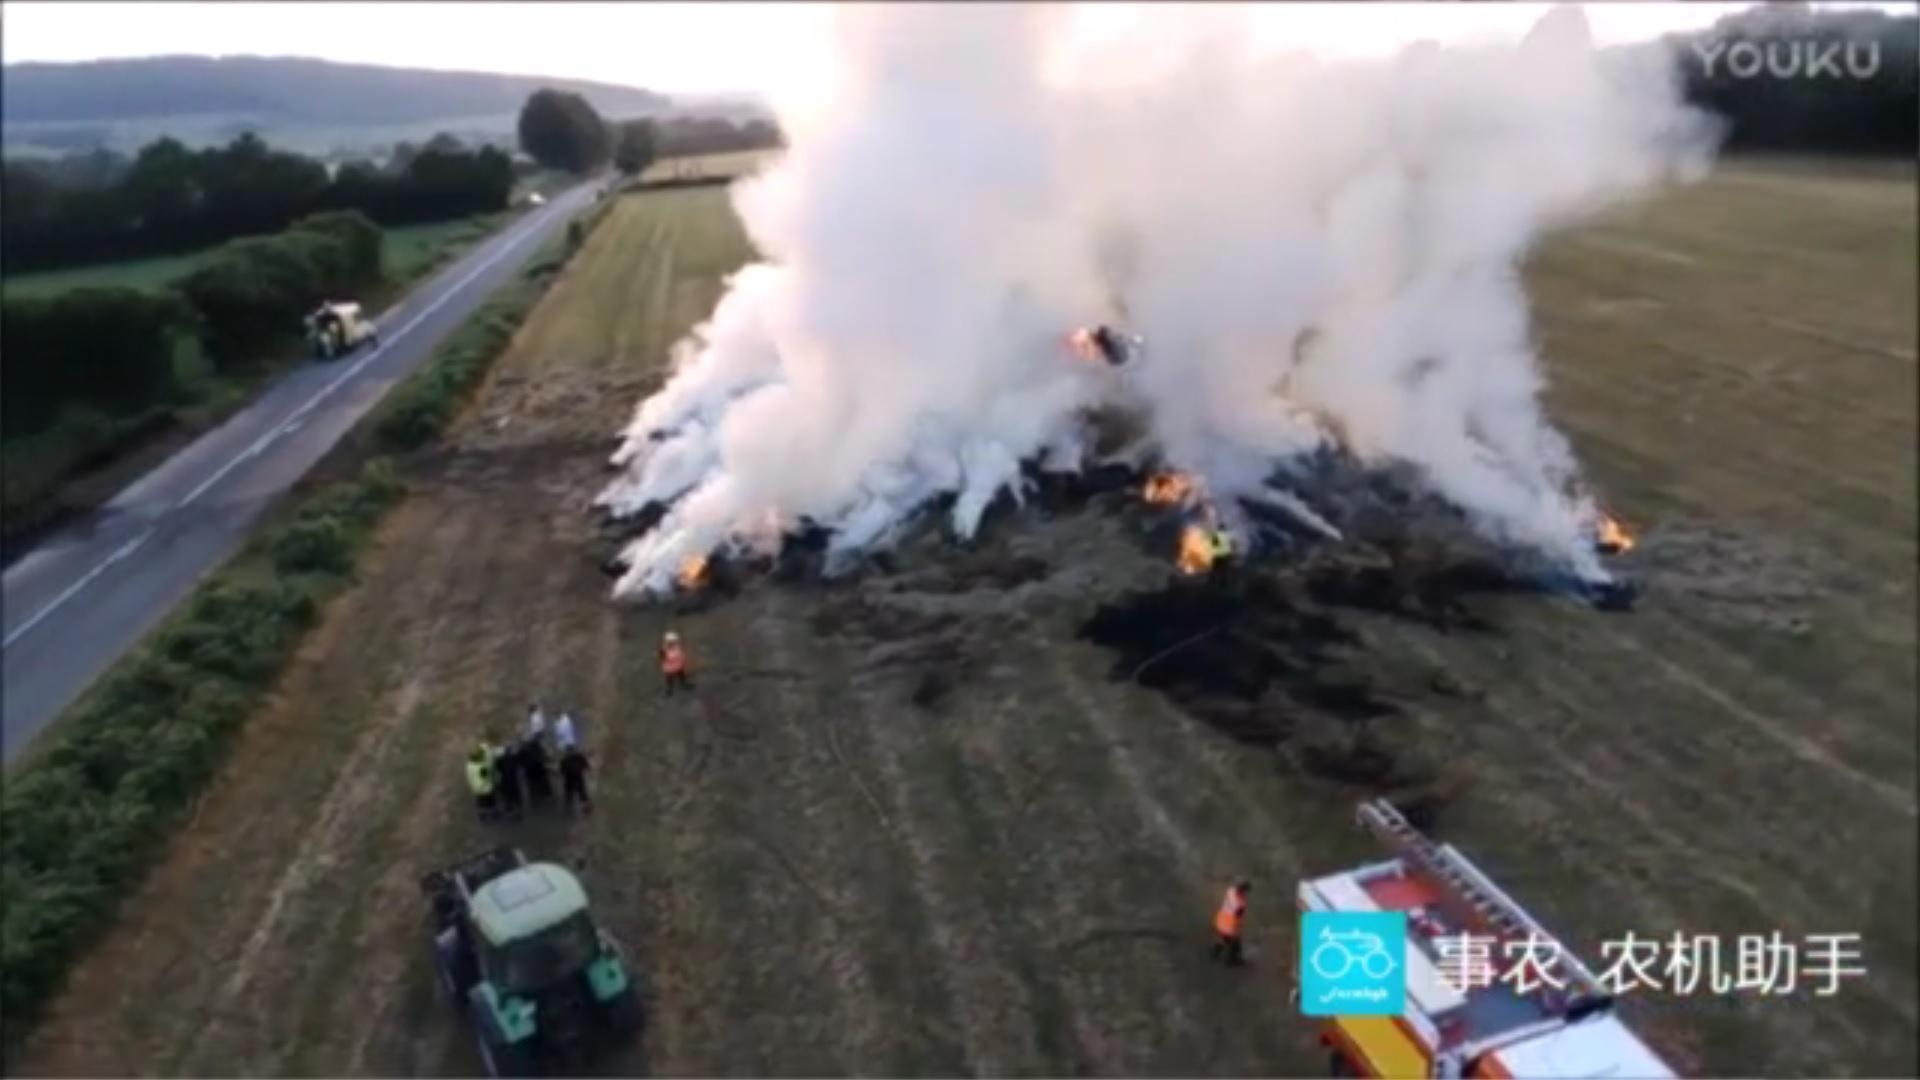fire: (1142, 473, 1228, 574), (1597, 510, 1640, 554), (1065, 318, 1108, 363), (674, 549, 708, 589)
